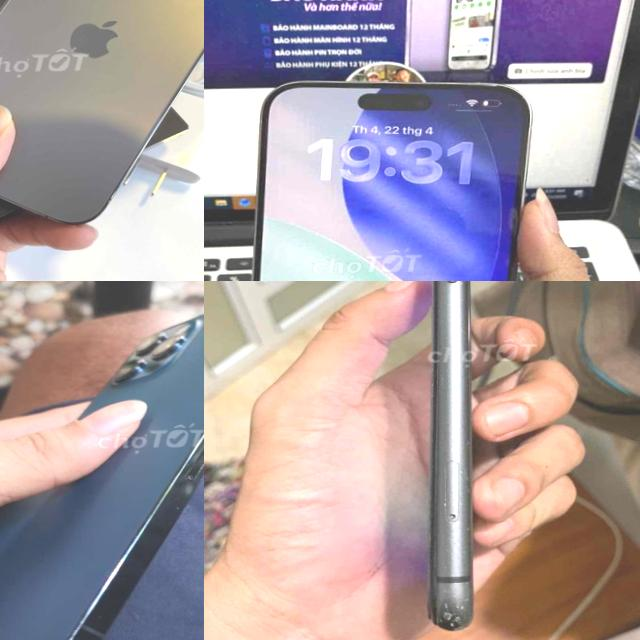gen_11: (428, 281, 474, 629)
gen_12_13: (0, 281, 204, 640), (0, 0, 204, 231)
gen_15: (230, 67, 523, 281)
scratch: (428, 586, 482, 634), (422, 492, 476, 515), (442, 452, 477, 486), (433, 364, 468, 396), (434, 281, 470, 304), (456, 570, 478, 599), (435, 540, 454, 557), (458, 523, 474, 534), (436, 562, 452, 573)
